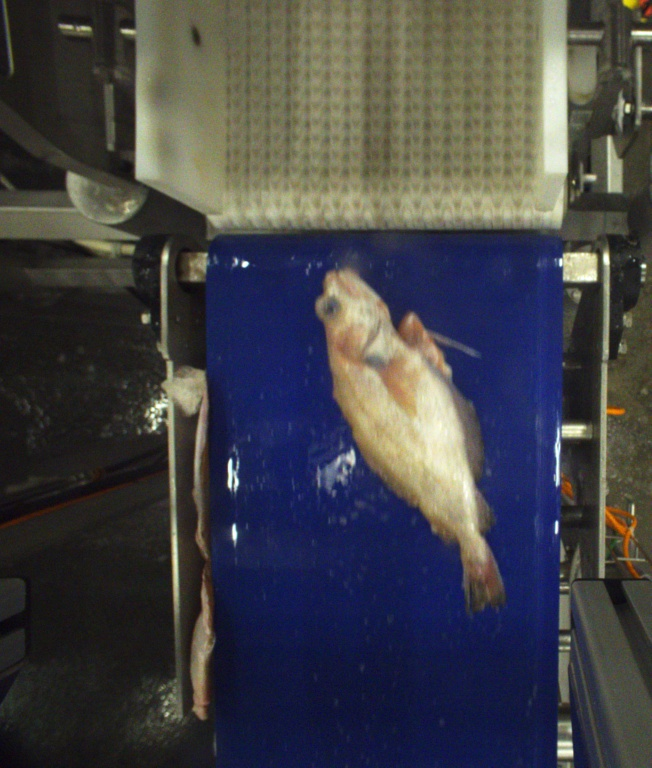BIB: (318, 267, 506, 614)
